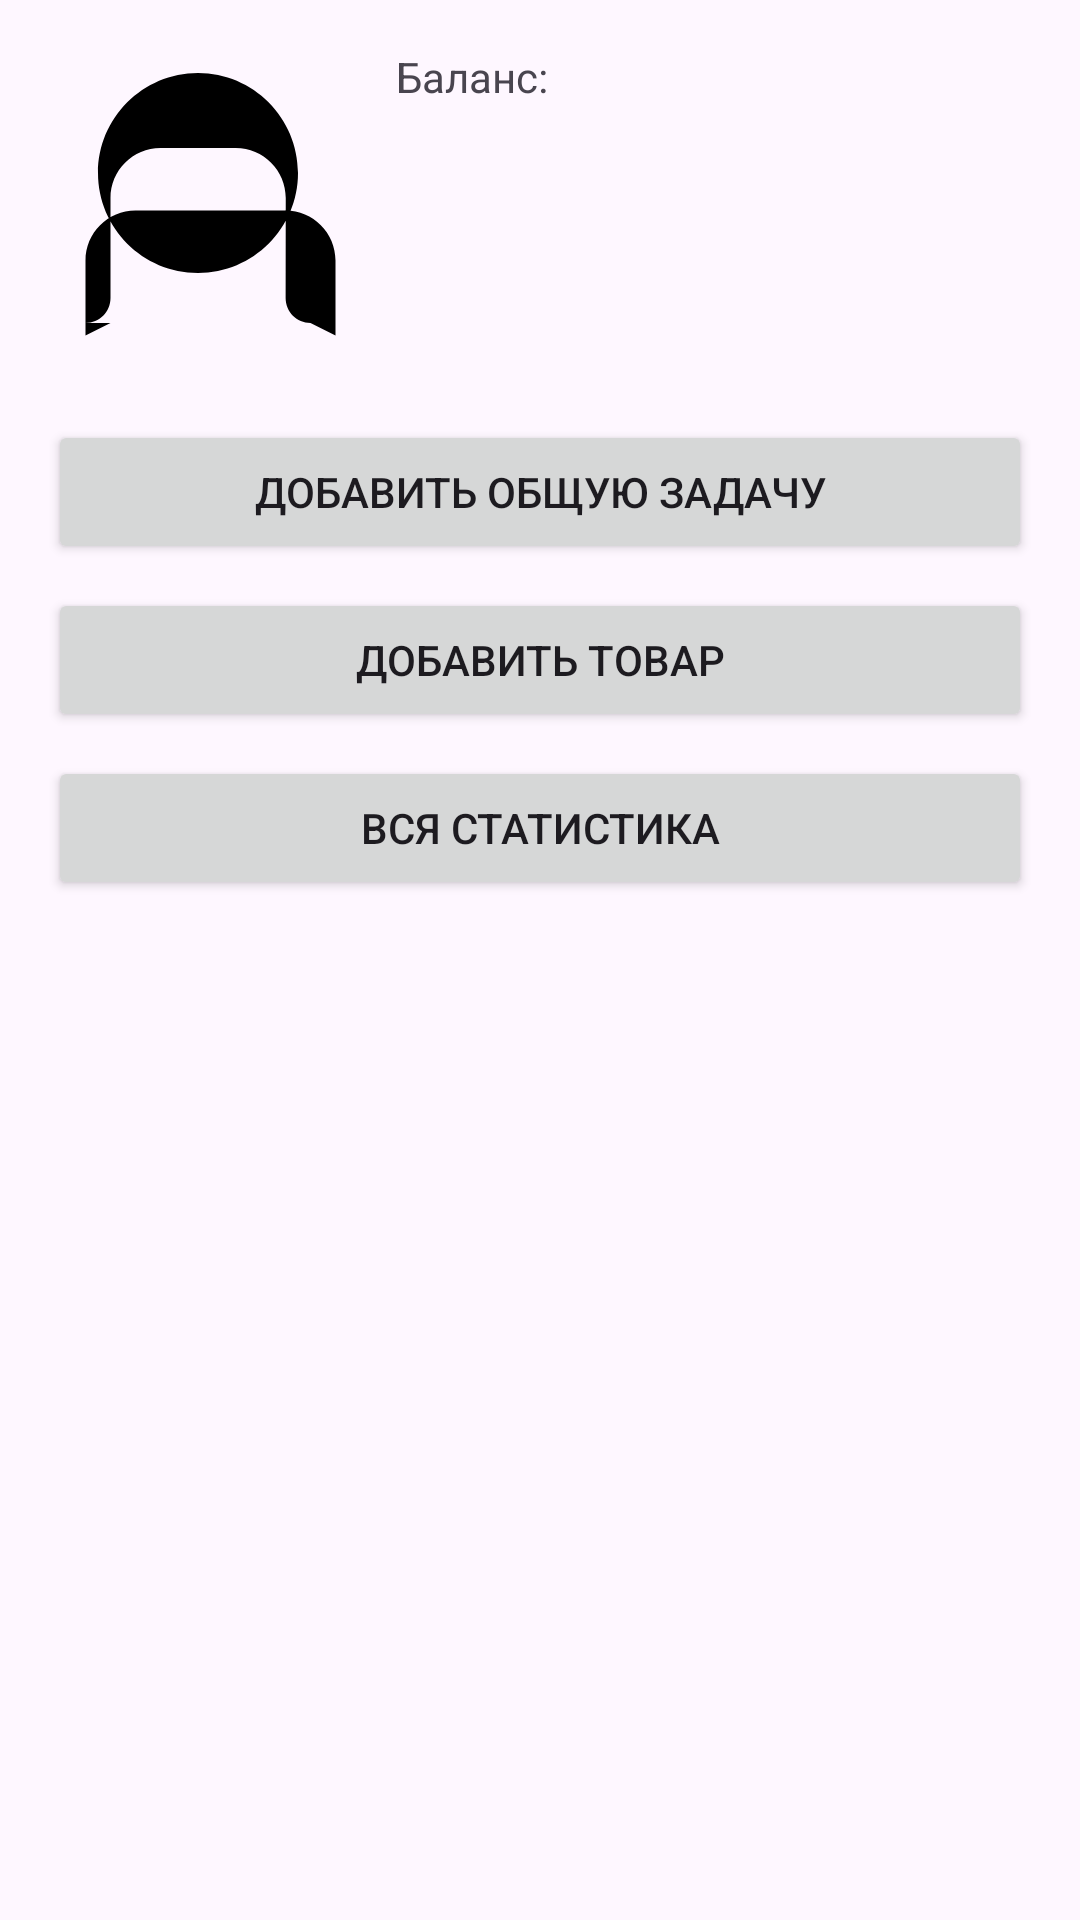

Icon bounding boxes for this 1080px×1920px phone screenshot, format [x1,y1,x2,y2]:
profile: [85,73,336,336]
